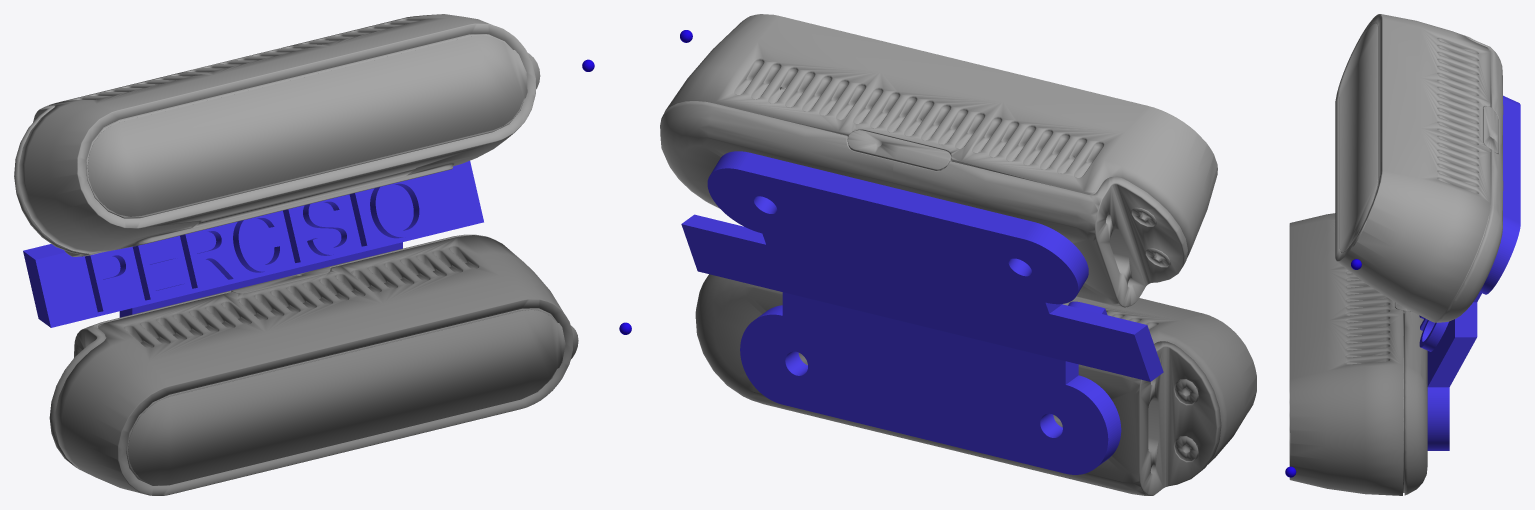
File: dockPercisio.glb
3 views of the same model, side by side, from view 1: azimuth 30°, elevation 25°; view 2: azimuth 150°, elevation 25°; view 3: azimuth 270°, elevation 25° (orthographic). The views are drawn at different scales.
Parts seen in each view (by area): view 1: D435i_IMU, D435, closed_2cameras-Body; view 2: closed_2cameras-Body, D435, D435i_IMU; view 3: D435, D435i_IMU, closed_2cameras-Body.
Boxes of the visible parts, x1,y1,x2,y2 form: D435i_IMU: (49,234,578,495); D435: (14,14,540,256); closed_2cameras-Body: (23,161,483,327); closed_2cameras-Body: (681,151,1163,474); D435: (660,14,1217,307); D435i_IMU: (695,274,1256,495); D435: (1335,14,1503,322); D435i_IMU: (1289,213,1427,495); closed_2cameras-Body: (1419,95,1520,450).
Bounding box in the file's own units: 0.0977 × 0.0639 × 0.0428.
